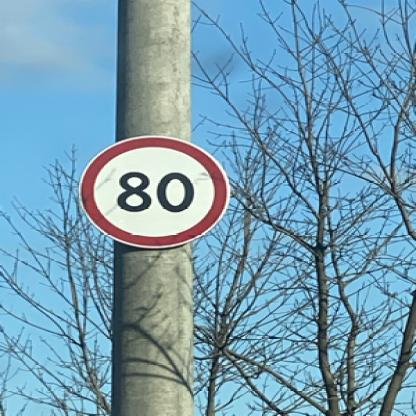Speed Limit 80: (83, 135, 231, 246)
